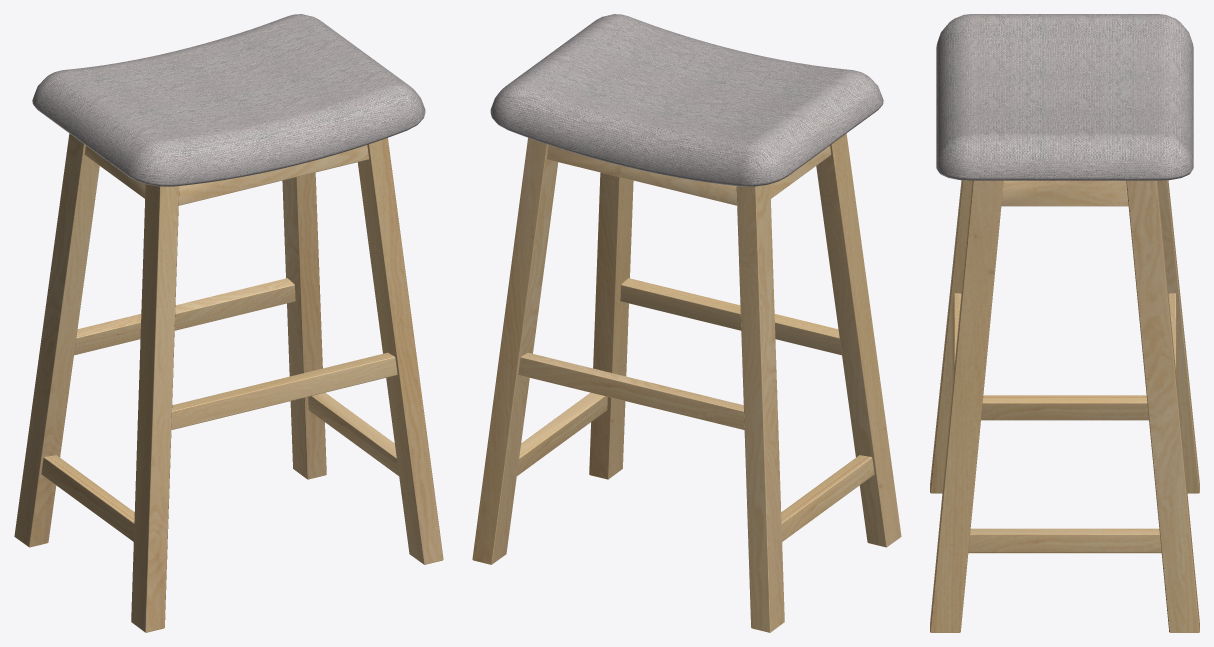
File: oslo_chair.glb
3 renders of one model, left to right at view 1: azimuth 30°, elevation 25°; view 2: azimuth 150°, elevation 25°; view 3: azimuth 270°, elevation 25°, orthographic. The views are drawn at different scales.
Visible parts, largest first — view 1: Object_1_Custom_0, object 5, object 6, object 8, object 7, object 12, object 11, object 9, object 1, object 10, object 3; view 2: Object_1_Custom_0, object 8, object 7, object 5, object 6, object 11, object 12, object 9, object 2, object 10, object 3; view 3: Object_1_Custom_0, object 6, object 7, object 10, object 9, object 5, object 8, object 4, object 11, object 12.
Boxes of the visible parts, x1,y1,x2,y2 form: Object_1_Custom_0: [32, 14, 425, 186]; object 5: [131, 184, 179, 632]; object 6: [357, 138, 443, 564]; object 8: [14, 133, 99, 547]; object 7: [282, 172, 326, 479]; object 12: [171, 352, 397, 429]; object 11: [74, 278, 295, 355]; object 9: [41, 455, 134, 541]; object 1: [179, 145, 368, 205]; object 10: [308, 392, 398, 475]; object 3: [84, 146, 145, 198]; Object_1_Custom_0: [490, 14, 883, 186]; object 8: [736, 184, 784, 632]; object 7: [472, 138, 558, 564]; object 5: [816, 133, 901, 547]; object 6: [589, 172, 633, 479]; object 11: [518, 352, 744, 429]; object 12: [620, 278, 841, 355]; object 9: [781, 455, 874, 541]; object 2: [547, 145, 736, 205]; object 10: [517, 392, 607, 475]; object 3: [770, 146, 831, 198]; Object_1_Custom_0: [936, 14, 1193, 180]; object 6: [930, 180, 1003, 632]; object 7: [1126, 180, 1199, 632]; object 10: [968, 528, 1161, 553]; object 9: [981, 395, 1148, 420]; object 5: [930, 180, 971, 493]; object 8: [1158, 180, 1199, 493]; object 4: [1001, 180, 1128, 206]; object 11: [1168, 293, 1177, 387]; object 12: [952, 293, 961, 387].
Size of the model in its own units: 0.3928 by 0.5923 by 0.2998.
2 materials, 2 textured.
